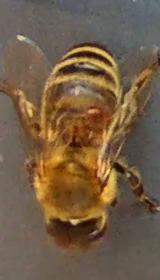varroa_mite: (71, 93, 123, 137)
